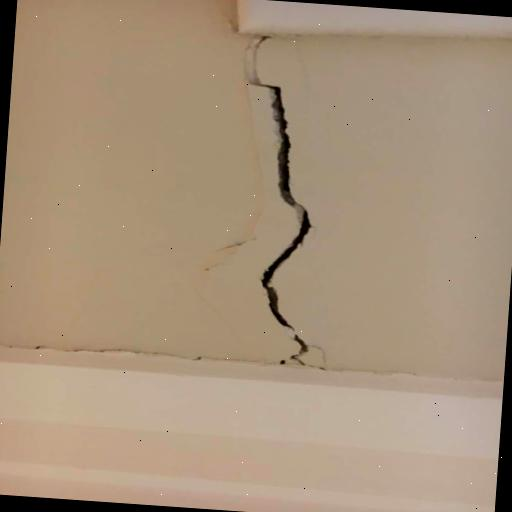spalling: (246, 75, 317, 361)
